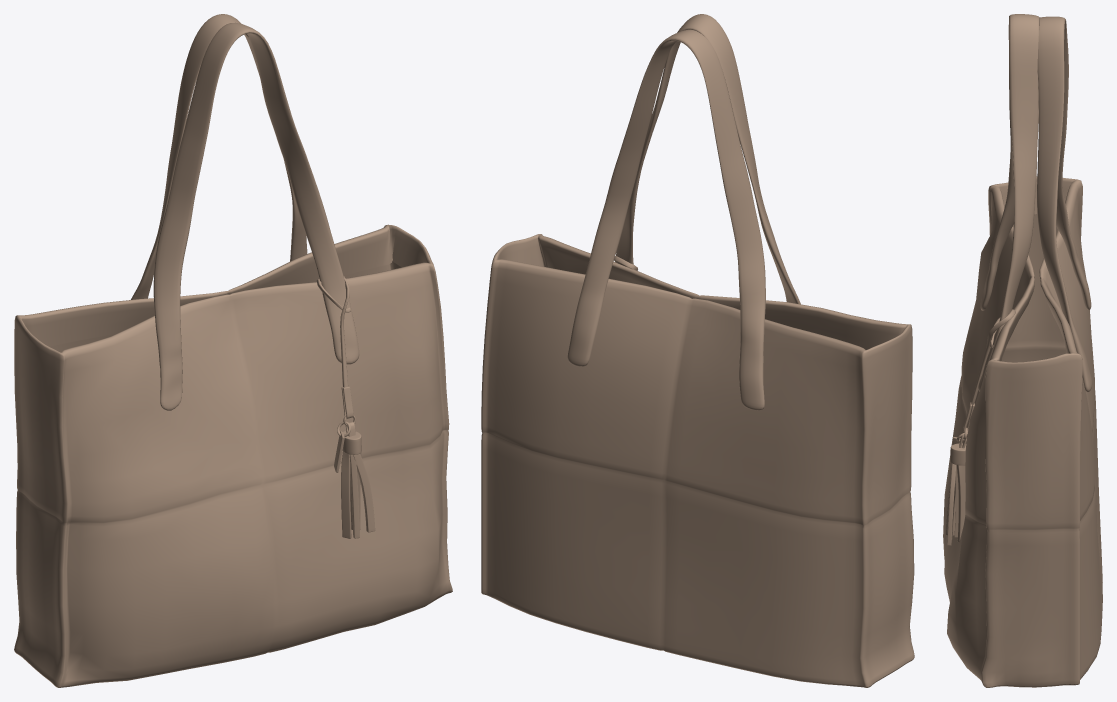
File: handbag.fbx
The picture shows the model from 3 angles, left to right: view 1: azimuth 30°, elevation 25°; view 2: azimuth 150°, elevation 25°; view 3: azimuth 270°, elevation 25°; orthographic projection. The views are drawn at different scales.
Parts seen in each view (by area): view 1: bag3_0; view 2: bag3_0; view 3: bag3_0.
Boxes of the visible parts, bbox=[...] form: bag3_0: bbox=[14, 14, 452, 687]; bag3_0: bbox=[481, 14, 914, 687]; bag3_0: bbox=[943, 14, 1102, 687].
Bounding box in the file's own units: 621 × 913 × 224.
